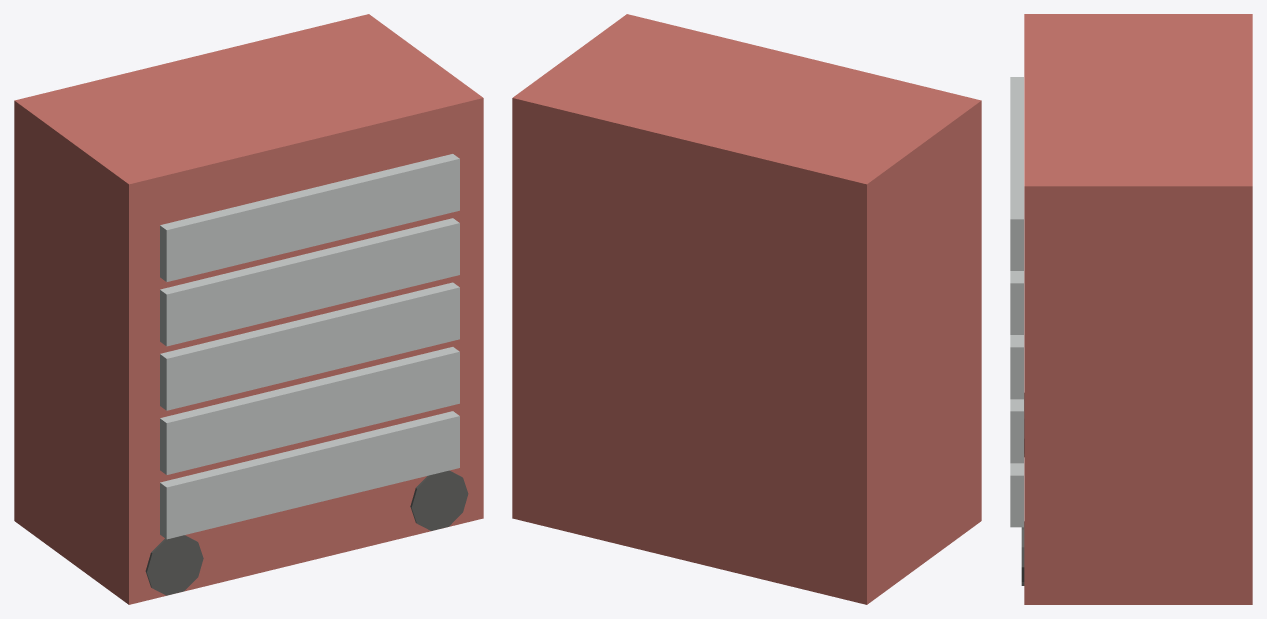
Rendered from tool_chest_04.glb.
3 renders of one model, left to right at view 1: azimuth 30°, elevation 25°; view 2: azimuth 150°, elevation 25°; view 3: azimuth 270°, elevation 25°, orthographic.
Visible parts, largest first — view 1: chest, drawer2, drawer1, drawer3, drawer0, drawer4, wheel0.28, wheel-0.28; view 2: chest; view 3: chest, drawer4, drawer0, drawer1, drawer2, drawer3.
Part boxes in pixels (bbox=[...]): chest: bbox=[14, 14, 483, 604]; drawer2: bbox=[160, 282, 459, 410]; drawer1: bbox=[160, 347, 459, 474]; drawer3: bbox=[160, 218, 459, 346]; drawer0: bbox=[160, 411, 459, 539]; drawer4: bbox=[160, 154, 459, 281]; wheel0.28: bbox=[410, 470, 468, 530]; wheel-0.28: bbox=[145, 535, 203, 595]; chest: bbox=[512, 14, 981, 604]; chest: bbox=[1024, 14, 1252, 604]; drawer4: bbox=[1010, 77, 1023, 270]; drawer0: bbox=[1010, 463, 1023, 527]; drawer1: bbox=[1010, 399, 1023, 463]; drawer2: bbox=[1010, 335, 1023, 399]; drawer3: bbox=[1010, 271, 1023, 334].
Bounding box in the file's own units: 0.75 × 0.85 × 0.4455.
